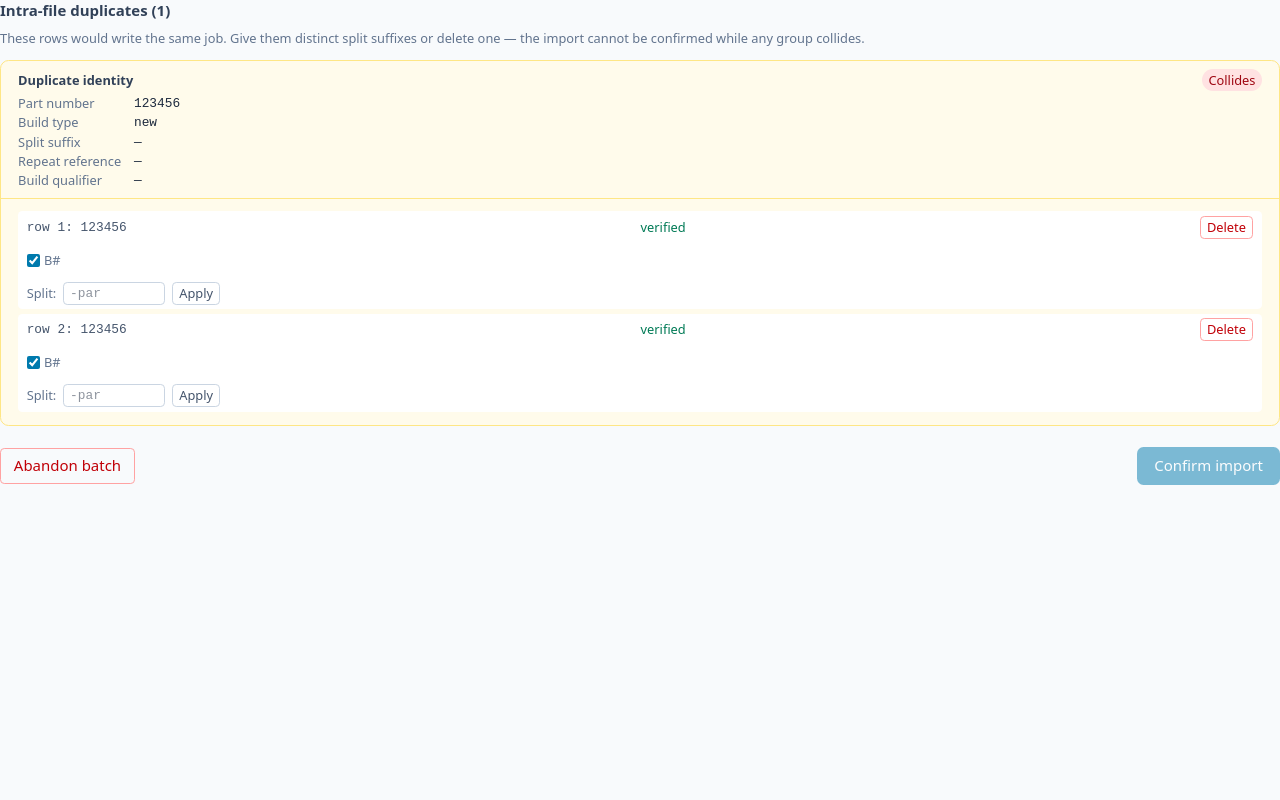
Test case: BatchReviewPanel — Patch 06 applyMutationResponse › seeds inputs for rows that first appear in a replaced section
Type "-2par" into the field with placeholder "-par" below "row 2: 123456" at {"x": 114, "y": 396}, box [63, 384, 165, 407]
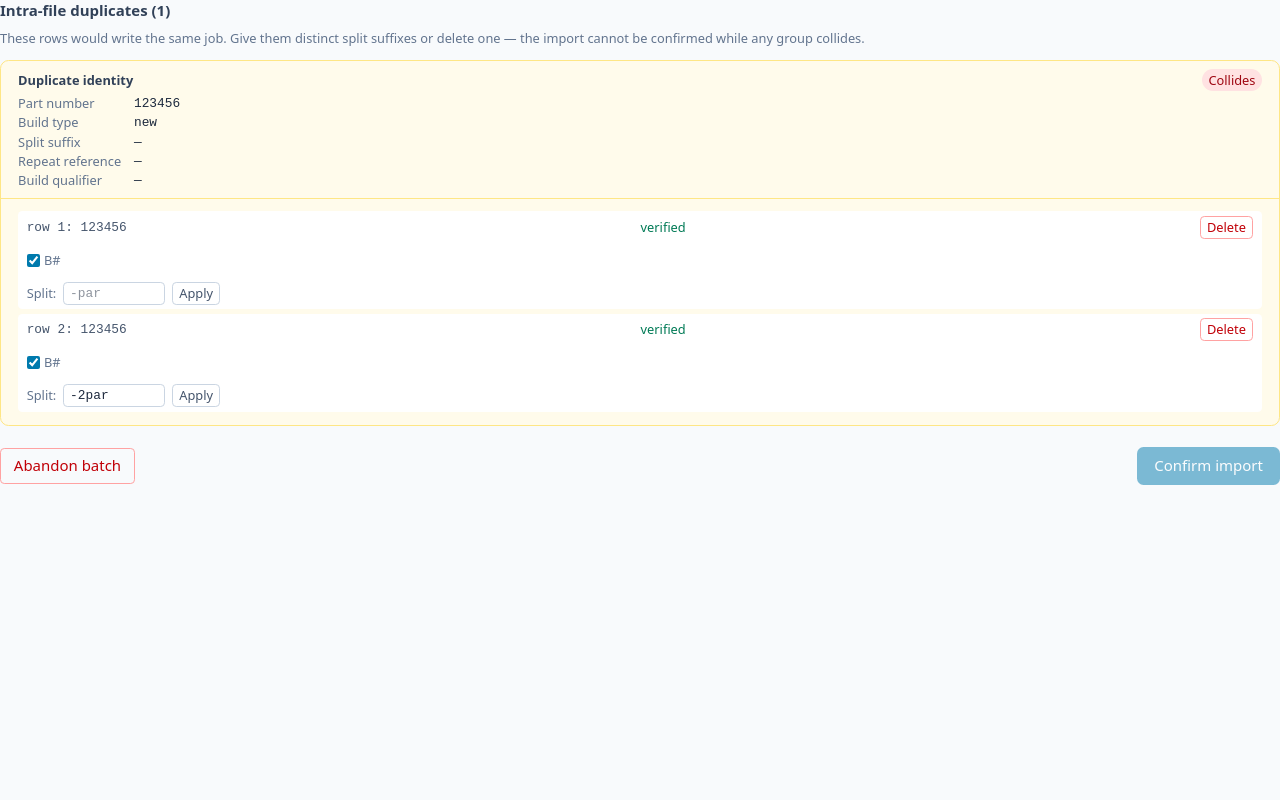
Click the button "Apply" below "row 2: 123456" at {"x": 196, "y": 396}, box [172, 384, 220, 408]
(page scrolled)
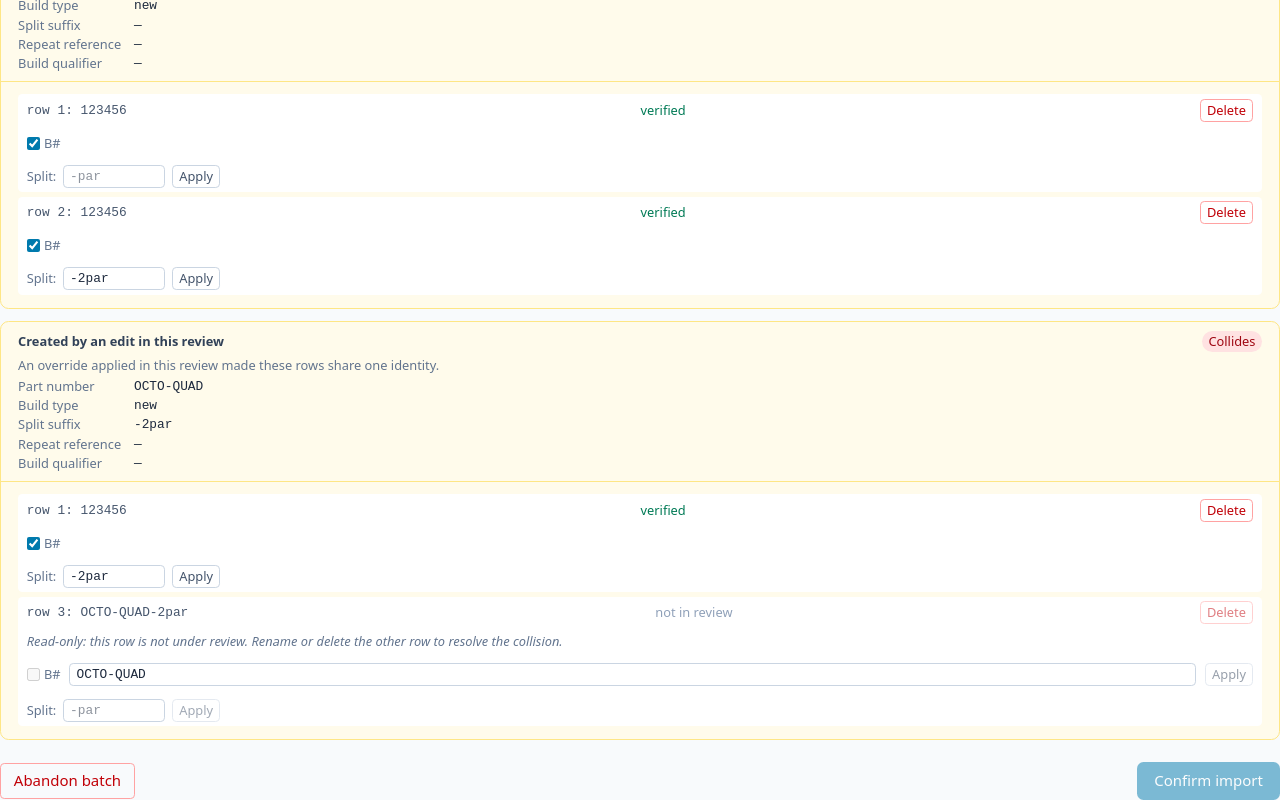
Expected: the element with test id "duplicate-group" shows "Created by an edit in this review", [18, 332, 224, 350]
Expected: the field with placeholder "canonical" holds "OCTO-QUAD", [69, 663, 1196, 686]
